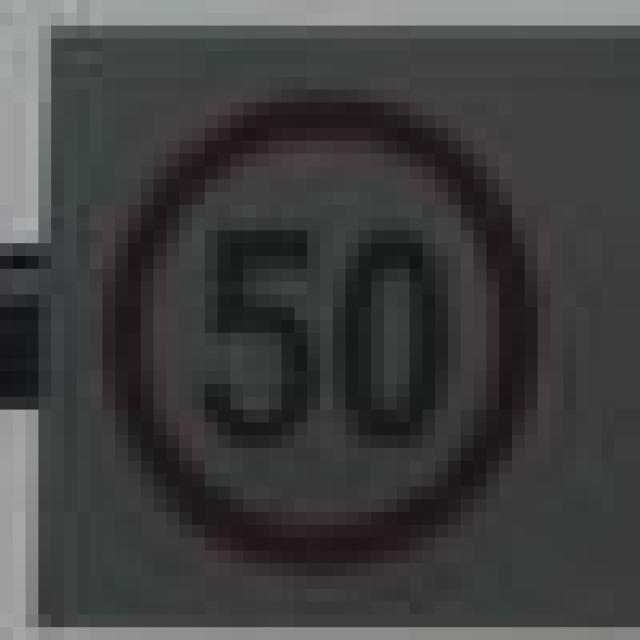speed_limit_30: (102, 77, 525, 550)
